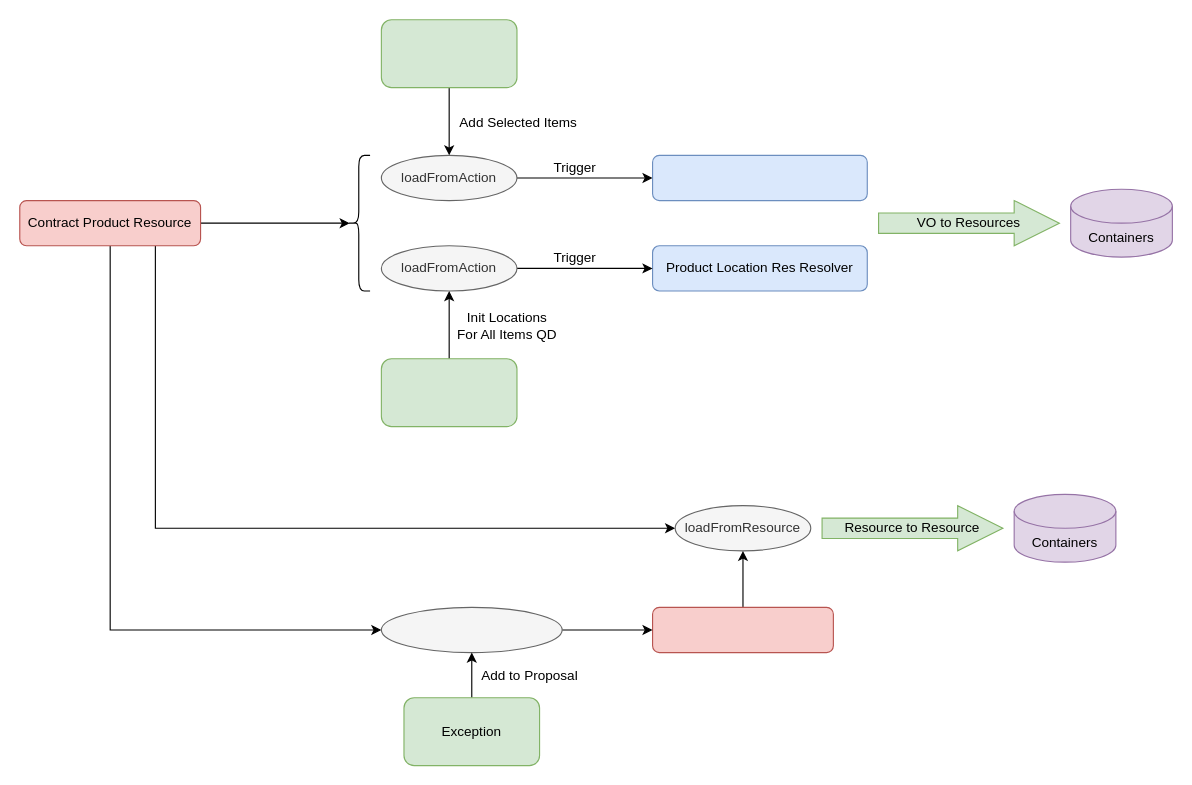
This 1192x785 diagram has some shape labels left out. The centre of each missing label's shape, as x and y in pixels:
appendToParentResource: the point at 471,629
Full Product Res Resolver: the point at 759,177
Item Selection: the point at 448,53
Location Selection: the point at 448,392
Proposal Product Resource: the point at 742,629
